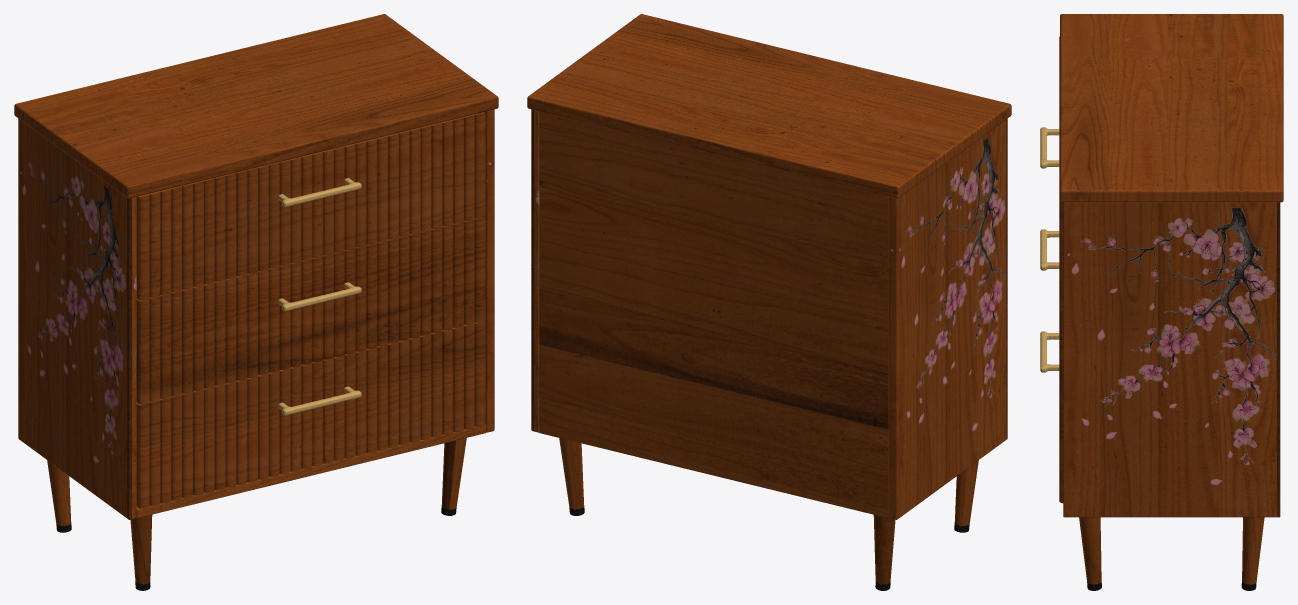
The model's file is comoda_cerejeira.glb.
3 renders of one model, left to right at view 1: azimuth 30°, elevation 25°; view 2: azimuth 150°, elevation 25°; view 3: azimuth 270°, elevation 25°, orthographic. The views are drawn at different scales.
Visible parts, largest first — view 1: tampo, lateral_esq, frente_ripado_3, frente_ripado_2, frente_ripado_1, lateral_dir, fundo, pe_1_1, frente_tabua_3, pe_-1_1, pe_-1_-1, frente_tabua_2 (+4 smaller); view 2: costas, tampo, lateral_esq, lateral_dir, fundo, pe_1_-1, pe_-1_-1, pe_-1_1; view 3: lateral_dir, tampo, pe_1_1, pe_1_-1, frente_ripado_3, frente_ripado_2, frente_ripado_1, puxador_1, puxador_2, puxador_3.
Part boxes in pixels (x1=…): tampo: x1=14, y1=14, x2=498, y2=198; lateral_esq: x1=18, y1=118, x2=136, y2=519; frente_ripado_3: x1=138, y1=113, x2=485, y2=300; frente_ripado_2: x1=138, y1=218, x2=485, y2=404; frente_ripado_1: x1=138, y1=322, x2=485, y2=508; lateral_dir: x1=484, y1=109, x2=494, y2=432; fundo: x1=136, y1=424, x2=486, y2=517; pe_1_1: x1=441, y1=438, x2=466, y2=510; frente_tabua_3: x1=136, y1=112, x2=484, y2=298; pe_-1_1: x1=130, y1=514, x2=152, y2=585; pe_-1_-1: x1=47, y1=460, x2=71, y2=526; frente_tabua_2: x1=136, y1=217, x2=484, y2=403; costas: x1=539, y1=111, x2=889, y2=518; tampo: x1=527, y1=14, x2=1011, y2=198; lateral_esq: x1=889, y1=118, x2=1007, y2=519; lateral_dir: x1=531, y1=109, x2=539, y2=432; fundo: x1=540, y1=426, x2=887, y2=517; pe_1_-1: x1=559, y1=438, x2=583, y2=510; pe_-1_-1: x1=873, y1=515, x2=895, y2=585; pe_-1_1: x1=954, y1=460, x2=978, y2=526; lateral_dir: x1=1063, y1=202, x2=1280, y2=517; tampo: x1=1060, y1=14, x2=1283, y2=202; pe_1_1: x1=1079, y1=517, x2=1101, y2=584; pe_1_-1: x1=1242, y1=517, x2=1264, y2=584; frente_ripado_3: x1=1059, y1=36, x2=1063, y2=298; frente_ripado_2: x1=1059, y1=297, x2=1063, y2=401; frente_ripado_1: x1=1059, y1=400, x2=1063, y2=503; puxador_1: x1=1040, y1=331, x2=1059, y2=372; puxador_2: x1=1040, y1=229, x2=1059, y2=270; puxador_3: x1=1040, y1=127, x2=1059, y2=168.
Size of the model in its own units: 0.812 by 0.8807 by 0.47.
Materials: 5 (2 with a texture image).
